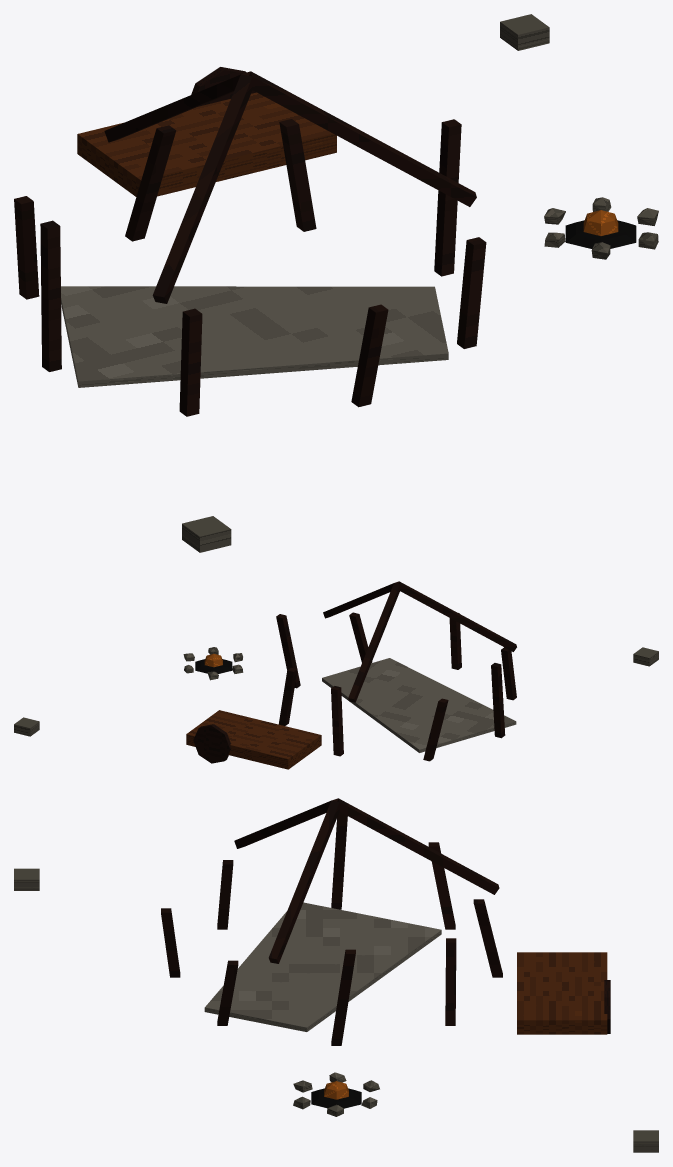
File: campamento_abandonado.glb
3 renders of one model, top to bottom at view 1: azimuth 30°, elevation 25°; view 2: azimuth 150°, elevation 25°; view 3: azimuth 270°, elevation 25°, orthographic. The views are drawn at different scales.
Parts seen in each view (by area): view 1: fieltro, enrejado, carro, varas, lindes, fogon, cenizas, caldero; view 2: fieltro, enrejado, carro, varas, rueda, lindes, fogon, cenizas; view 3: fieltro, carro, enrejado, varas, lindes, fogon, cenizas.
Part boxes in pixels (x1,y1,x2,y2): fieltro: (61,286,448,387); enrejado: (14,119,486,416); carro: (77,92,336,196); varas: (104,71,476,303); lindes: (182,14,549,552); fogon: (544,197,658,259); cenizas: (565,220,636,248); caldero: (583,210,618,235); fieltro: (322,658,516,752); enrejado: (276,612,516,761); carro: (186,710,321,769); varas: (323,581,516,702); rueda: (193,724,230,763); lindes: (14,647,658,736); fogon: (183,647,243,680); cenizas: (195,659,232,673); fieltro: (204,902,441,1031); carro: (517,952,607,1034); enrejado: (161,812,502,1045); varas: (234,798,499,963); lindes: (14,868,658,1152); fogon: (293,1072,379,1116); cenizas: (311,1088,361,1108).
Size of the model in its own units: 10 by 3 by 10.
1 material, 1 textured.
